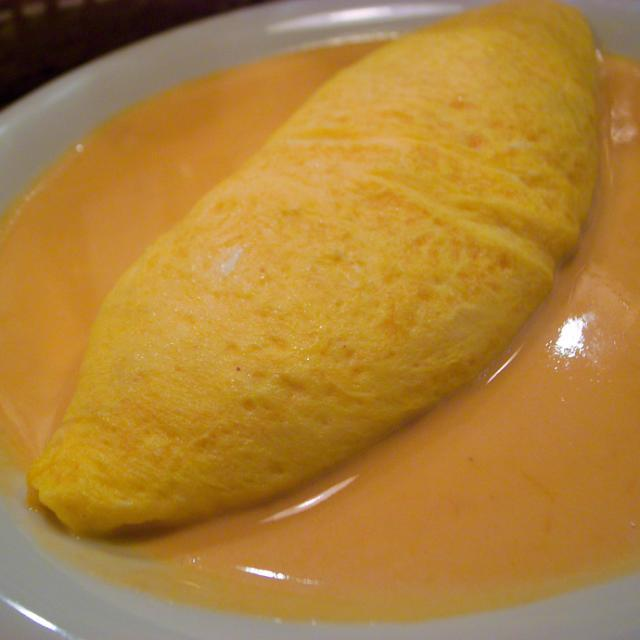Omelet: (22, 0, 612, 546)
